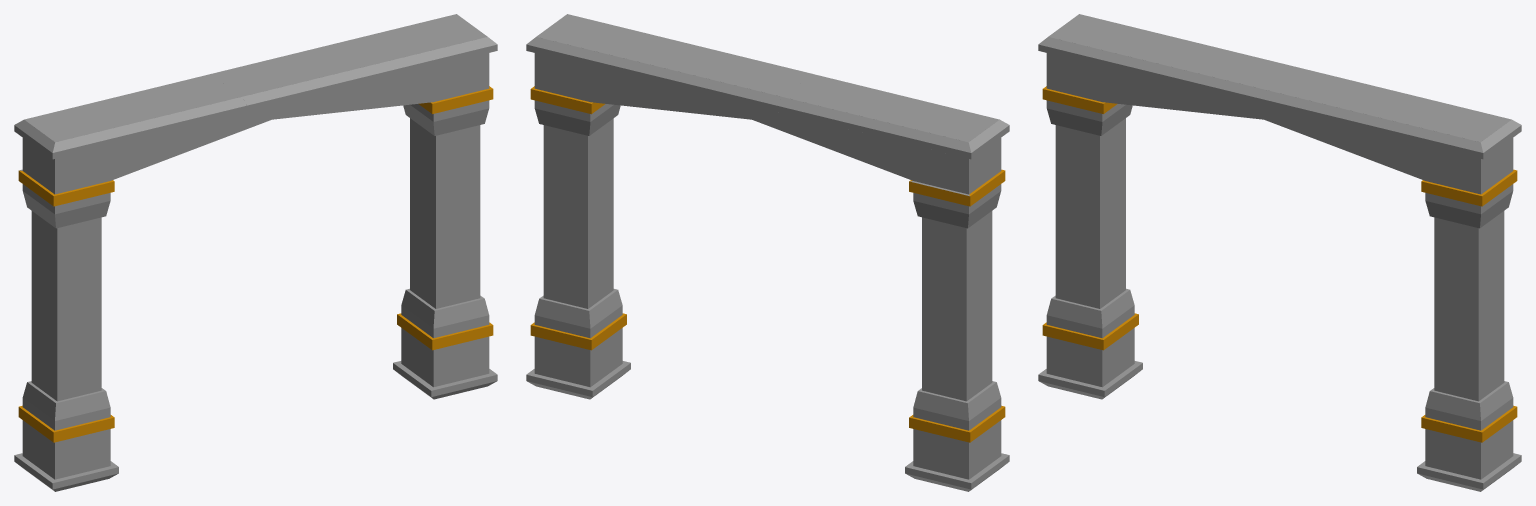
Rendered from PilaresPared.fbx.
3 renders of one model, left to right at view 1: azimuth 30°, elevation 25°; view 2: azimuth 150°, elevation 25°; view 3: azimuth 330°, elevation 25°, orthographic.
Visible parts, largest first — view 1: WallGate; view 2: WallGate; view 3: WallGate.
Boxes of the visible parts, x1,y1,x2,y2 form: WallGate: (14,14,497,491); WallGate: (526,14,1009,491); WallGate: (1038,14,1521,491).
Size of the model in its own units: 400 by 300 by 59.76.
